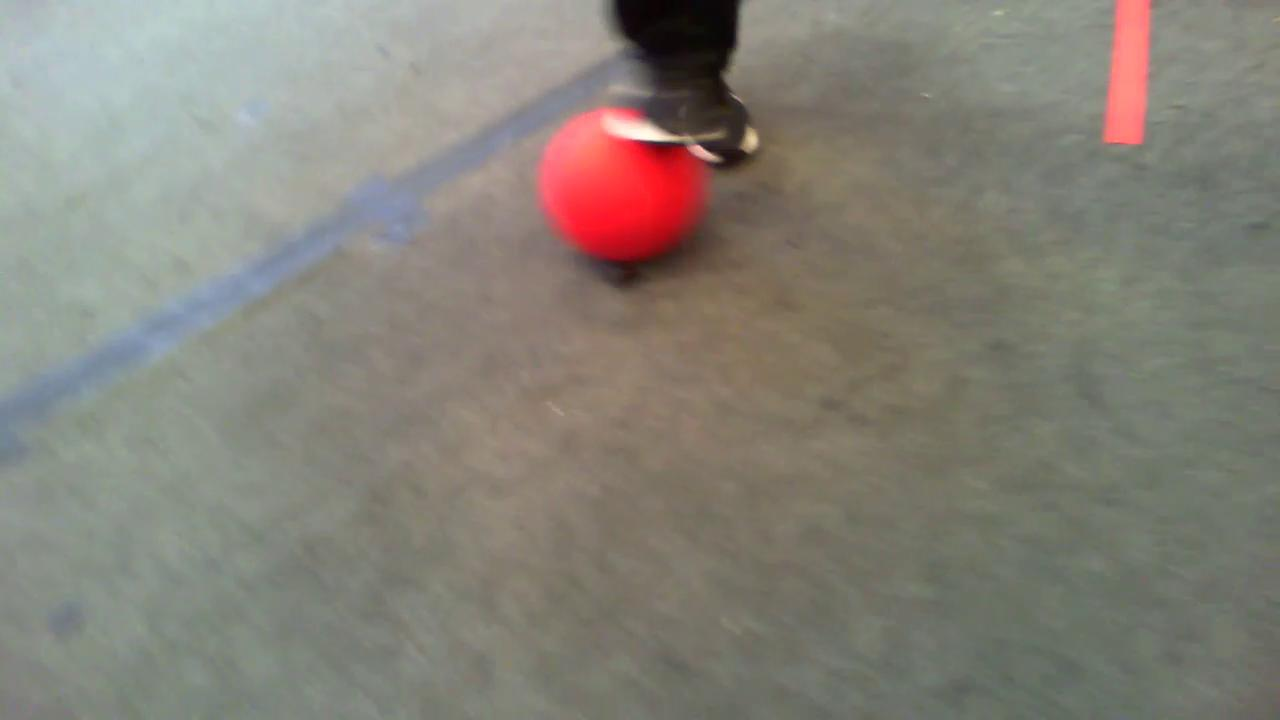Red_Ball: (540, 100, 706, 261)
